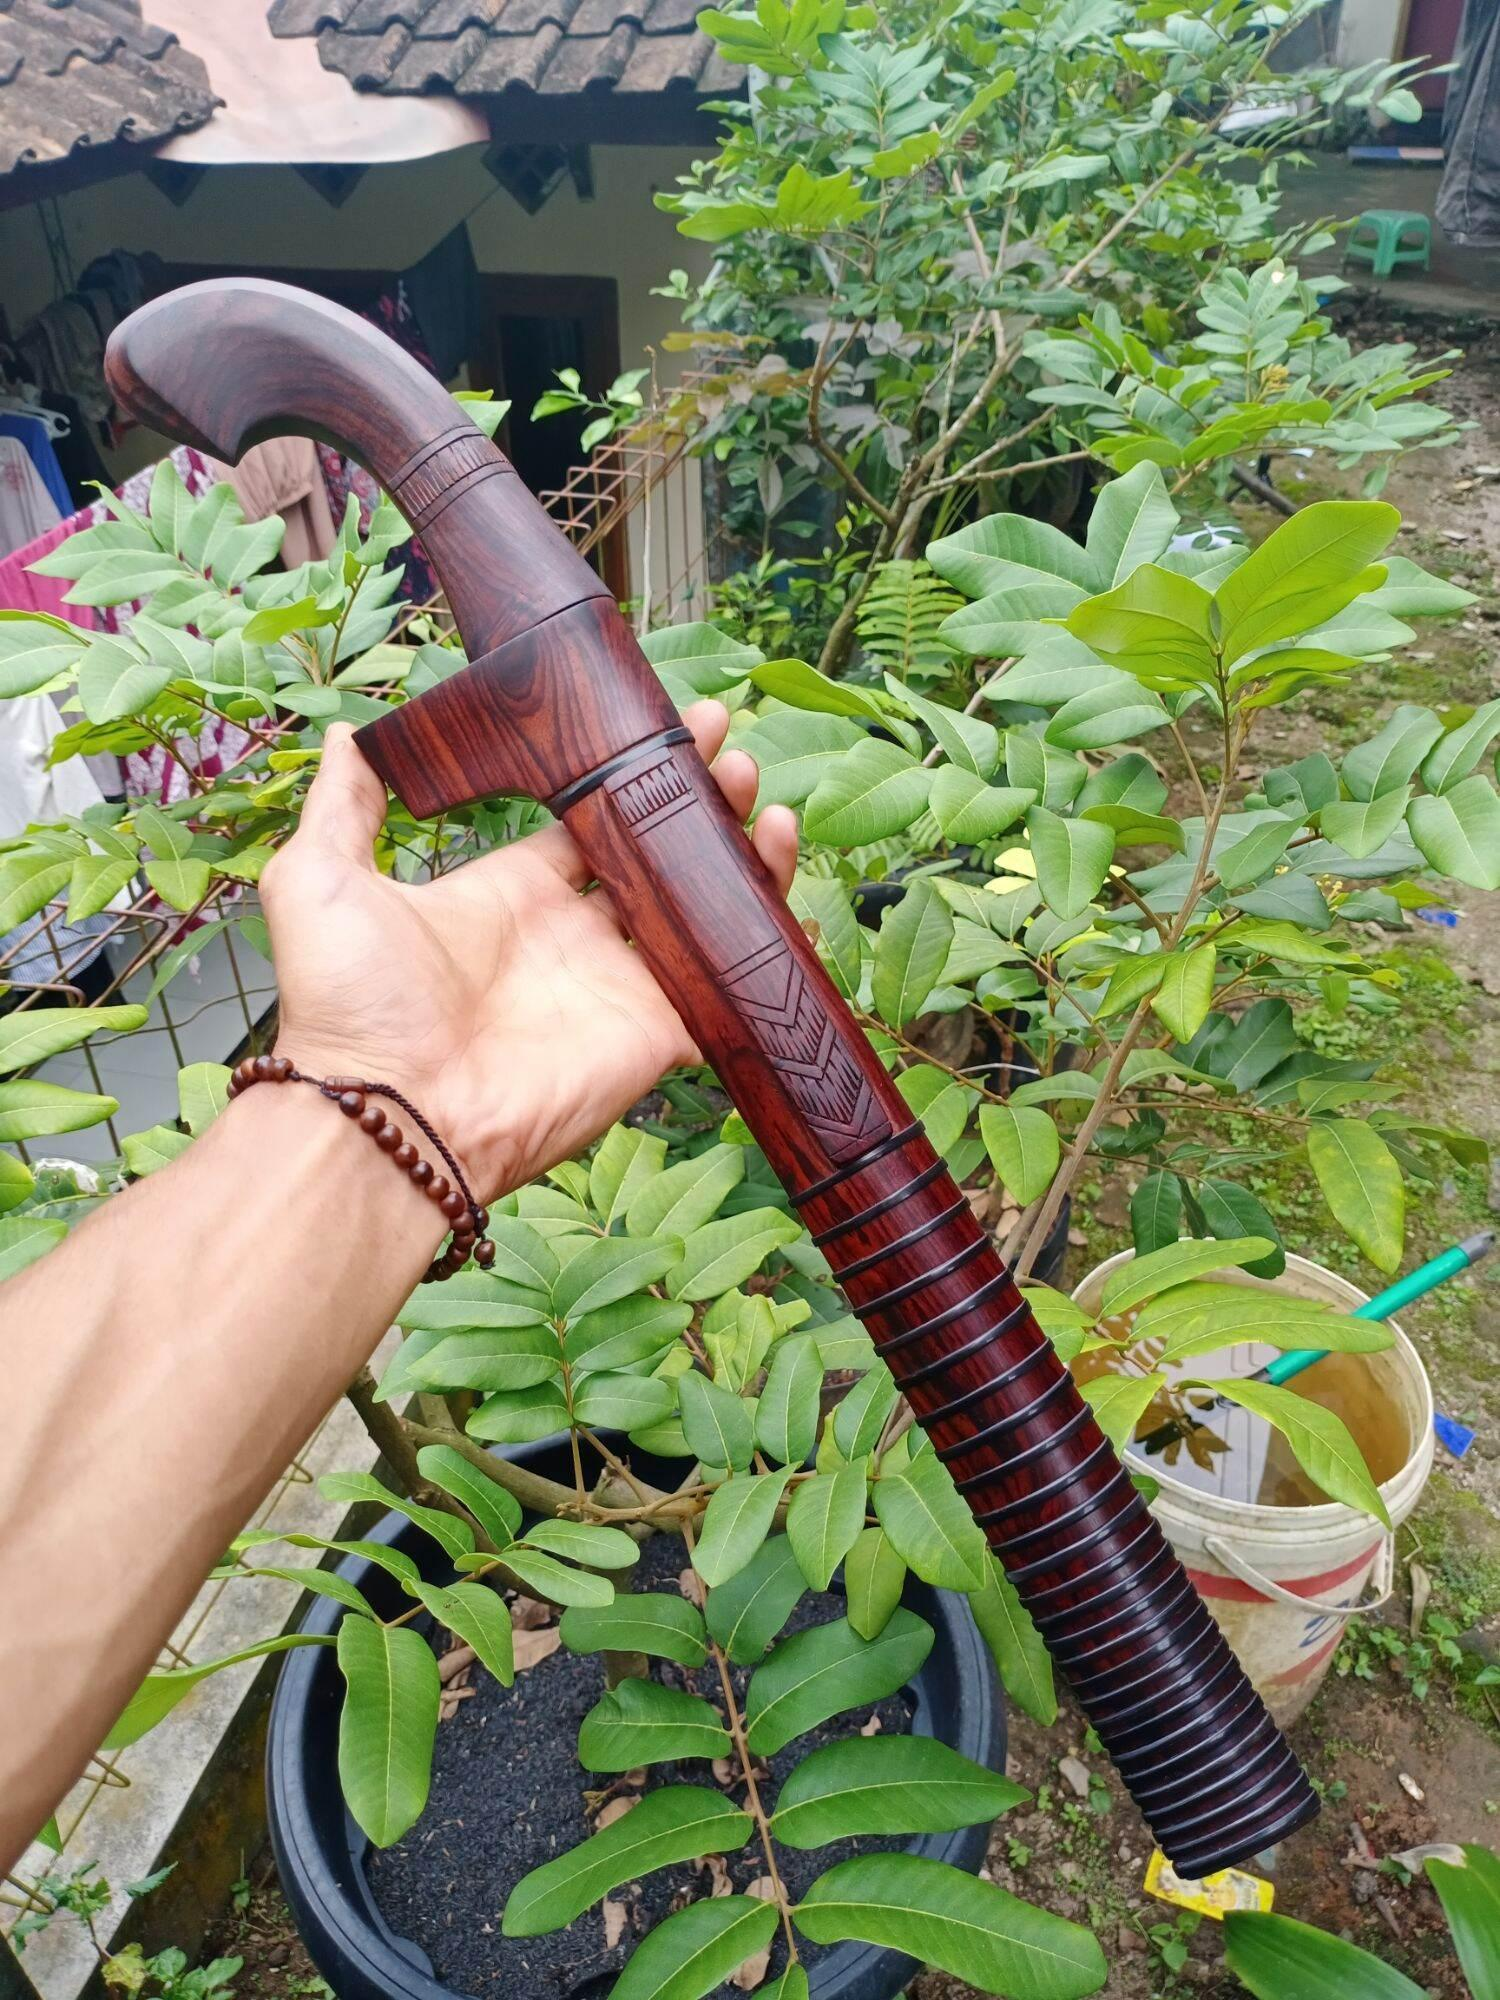facao: (52, 216, 1413, 1885)
